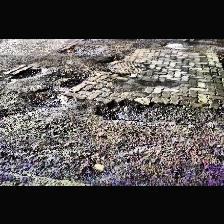pothole: (96, 96, 190, 122), (28, 86, 72, 108), (10, 66, 42, 78), (59, 42, 87, 54), (162, 40, 186, 48), (62, 78, 82, 86)
